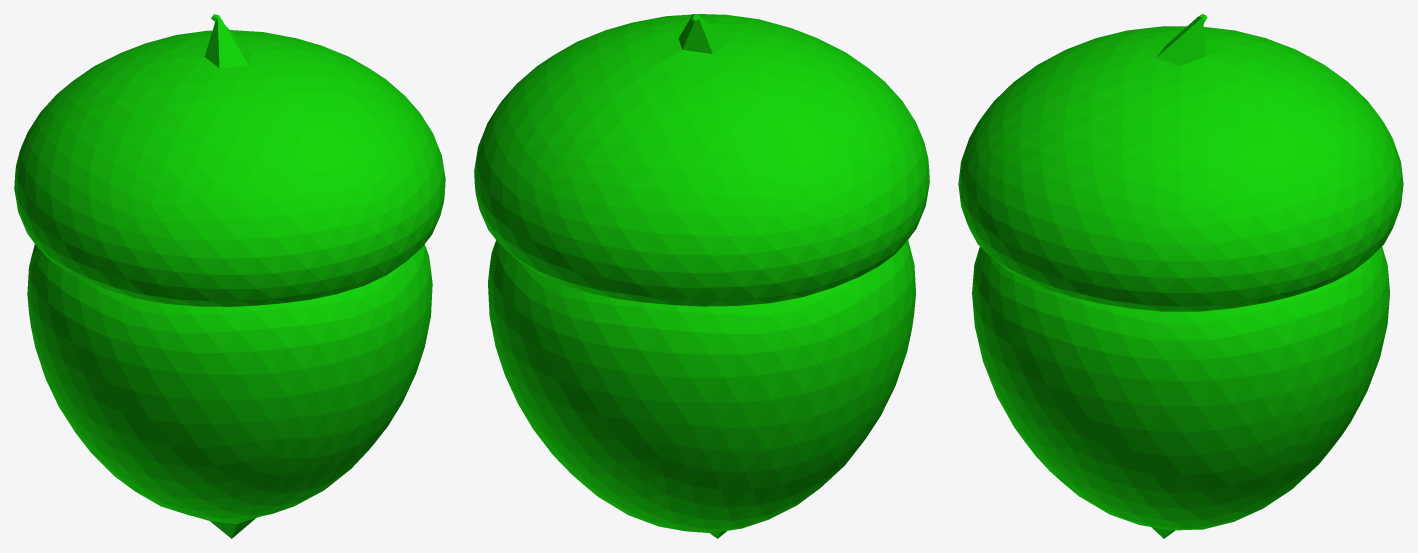
File: acorn.fbx
3 views of the same model, side by side, from view 1: azimuth 30°, elevation 25°; view 2: azimuth 150°, elevation 25°; view 3: azimuth 270°, elevation 25° (orthographic). The views are drawn at different scales.
Parts seen in each view (by area): view 1: Icosphere.001; view 2: Icosphere.001; view 3: Icosphere.001.
Part boxes in pixels (x1,y1,x2,y2): Icosphere.001: (14,14,445,538); Icosphere.001: (474,14,929,538); Icosphere.001: (958,14,1403,538).
Bounding box in the file's own units: 213 × 277 × 213.
